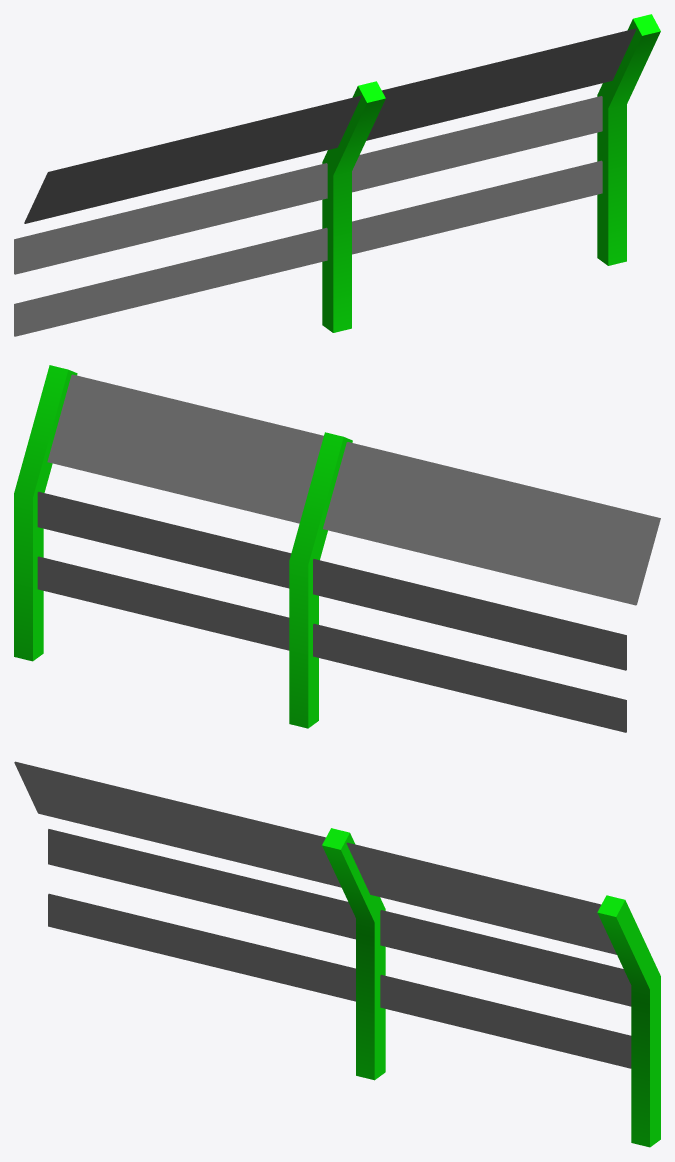
Rendered from Fence_BarbedTrim_End.FBX.
3 renders of one model, top to bottom at view 1: azimuth 30°, elevation 25°; view 2: azimuth 150°, elevation 25°; view 3: azimuth 330°, elevation 25°, orthographic.
Visible parts, largest first — view 1: Fence_BarbedTrim_End; view 2: Fence_BarbedTrim_End; view 3: Fence_BarbedTrim_End.
Part boxes in pixels (x1,y1,x2,y2): Fence_BarbedTrim_End: (14,14,660,336); Fence_BarbedTrim_End: (14,365,660,732); Fence_BarbedTrim_End: (14,761,660,1147).
Size of the model in its own units: 2.58 by 1.08 by 0.3296.
